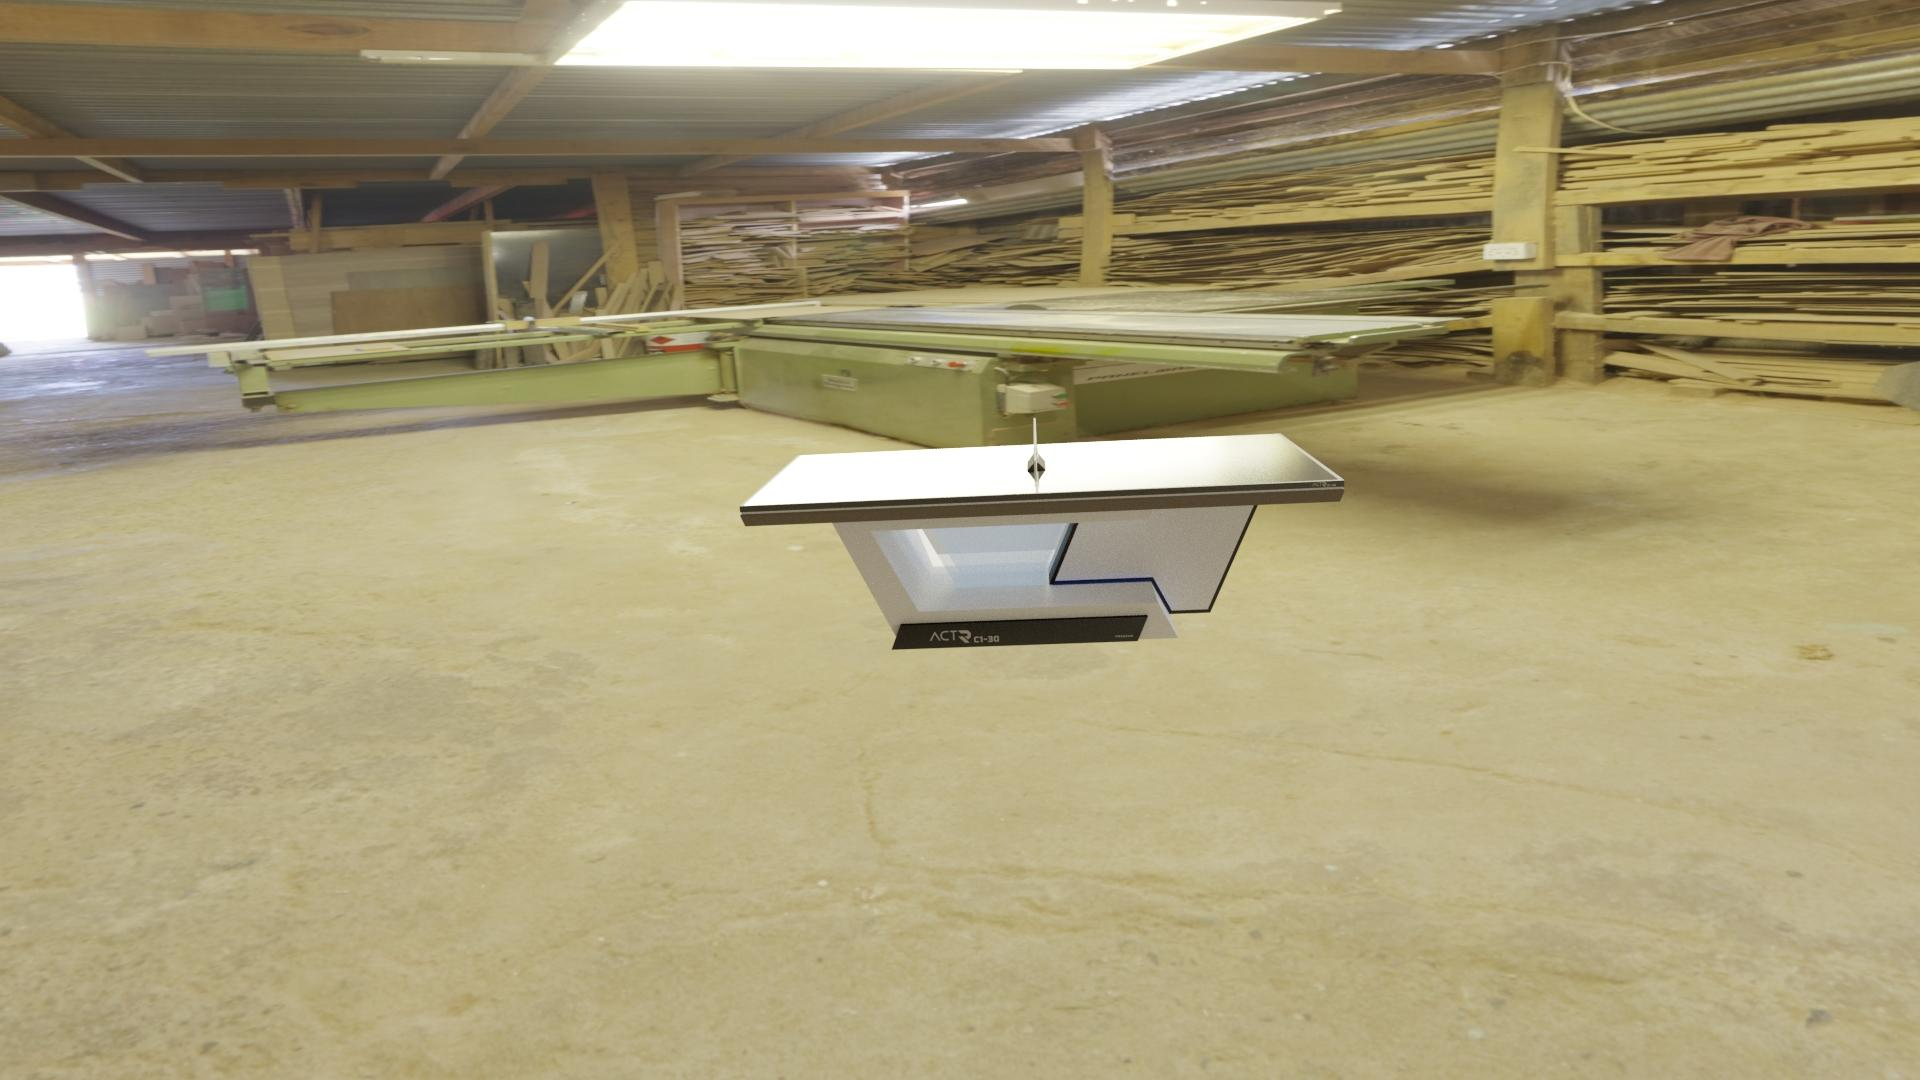table: (745, 434, 1338, 505)
